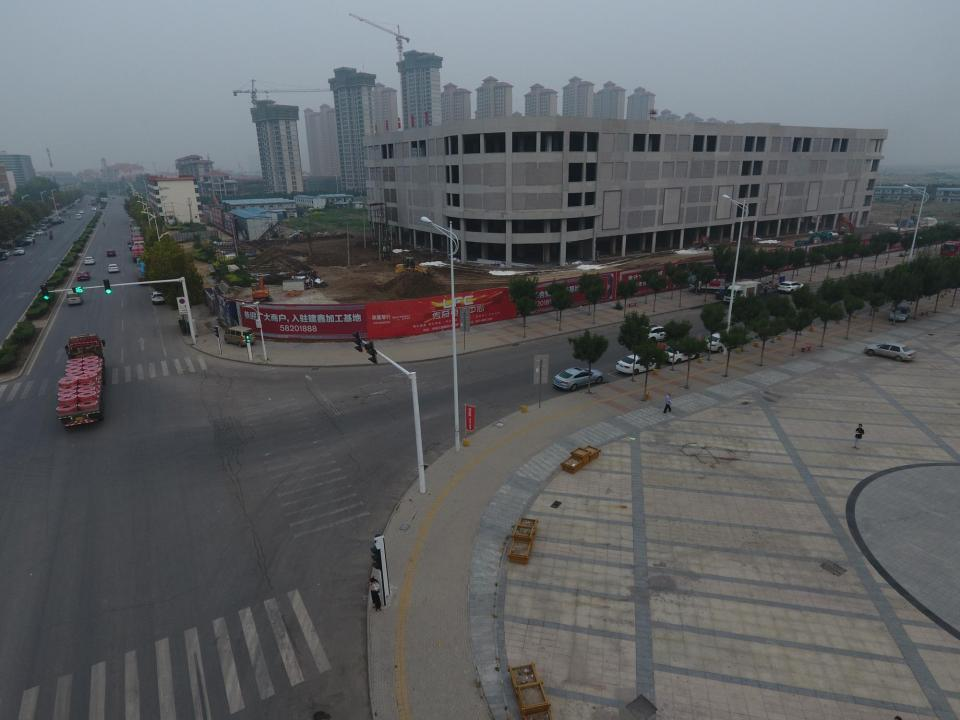car: (551, 366, 603, 391), (862, 340, 916, 360), (614, 356, 658, 374), (664, 342, 700, 362), (705, 332, 735, 352), (777, 280, 807, 294), (889, 306, 908, 323), (646, 323, 667, 338), (76, 270, 90, 283), (149, 292, 163, 301), (82, 255, 95, 262), (106, 266, 117, 272), (105, 249, 114, 255)
truck: (58, 333, 104, 431), (724, 282, 764, 306), (689, 276, 729, 294)
van: (225, 326, 255, 346), (68, 286, 82, 302)
